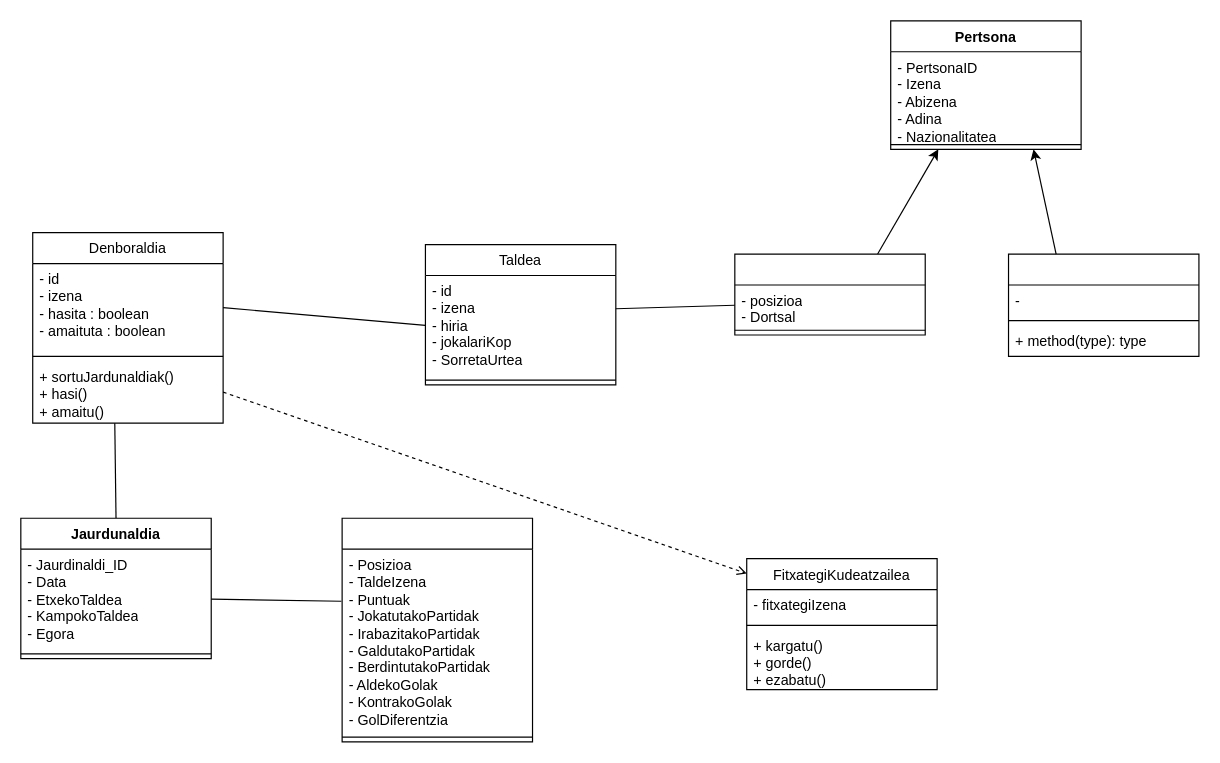
The diagram is 1220 pixels wide and 763 high, and some of its shapes have lost their labels. The box of each missing label's shape, as (x1, y1, x2, y2) in pixels:
Arbitroa: (1007, 253, 1199, 356)
Jokalaria: (734, 253, 925, 335)
Klasifikazioa: (341, 517, 533, 742)
